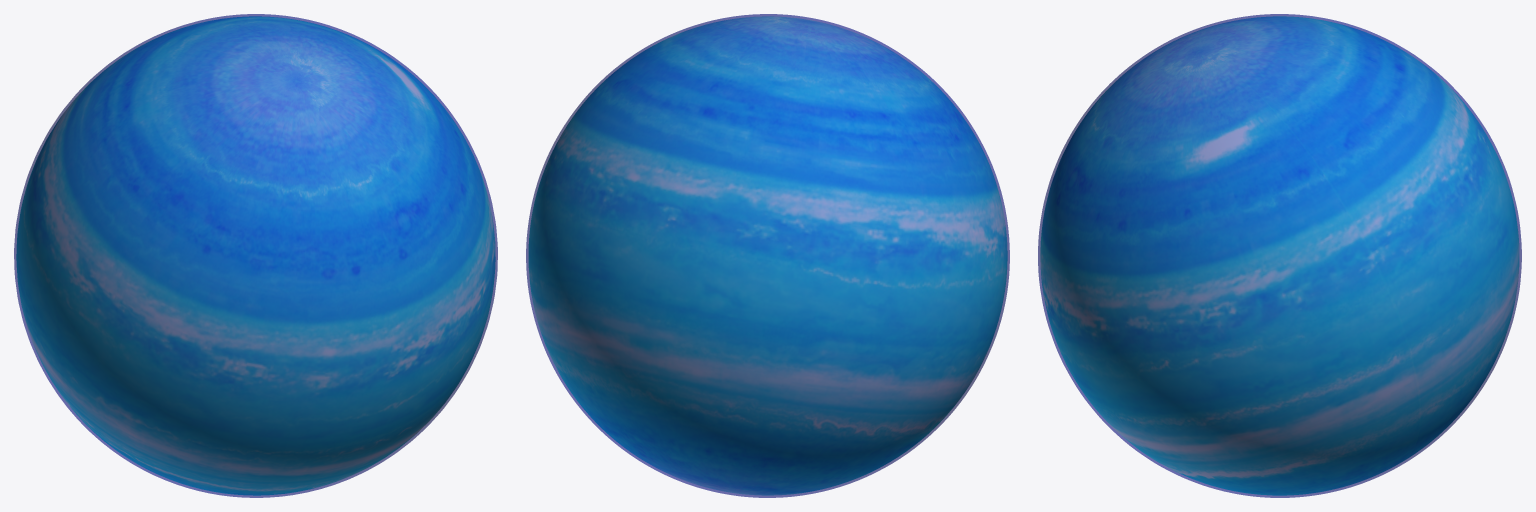
Rendered from planet-nine.glb.
3 renders of one model, left to right at view 1: azimuth 30°, elevation 25°; view 2: azimuth 150°, elevation 25°; view 3: azimuth 270°, elevation 25°, orthographic.
Visible parts, largest first — view 1: Sphere.001_1, Sphere_0; view 2: Sphere.001_1, Sphere_0; view 3: Sphere.001_1, Sphere_0.
Part boxes in pixels (left/top/right/bottom): Sphere.001_1: left=14, top=14, right=497, bottom=497; Sphere_0: left=16, top=16, right=495, bottom=495; Sphere.001_1: left=526, top=14, right=1009, bottom=497; Sphere_0: left=528, top=16, right=1007, bottom=495; Sphere.001_1: left=1038, top=14, right=1521, bottom=497; Sphere_0: left=1040, top=16, right=1519, bottom=495.
Size of the model in its own units: 2 by 2 by 2.
Materials: 2 (2 with a texture image).
